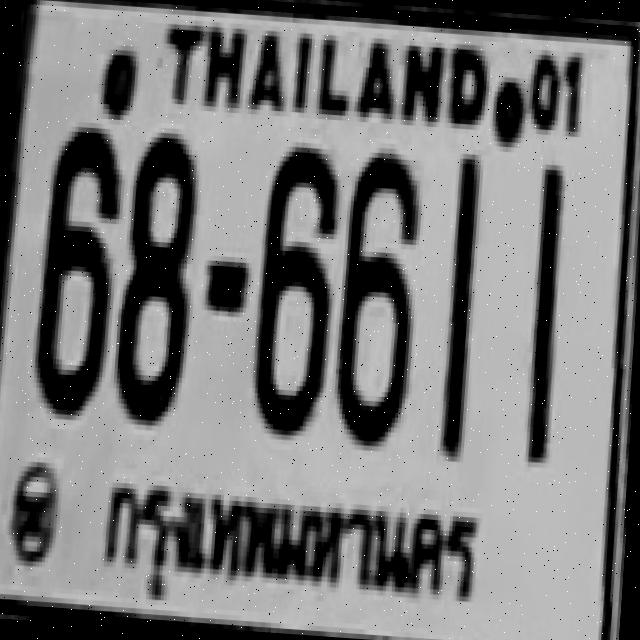1: (434, 152, 482, 456), (518, 164, 566, 462)
6: (30, 120, 124, 417), (331, 146, 422, 442), (249, 140, 340, 432)
8: (112, 128, 200, 425)
Bangkok: (94, 464, 485, 624)
